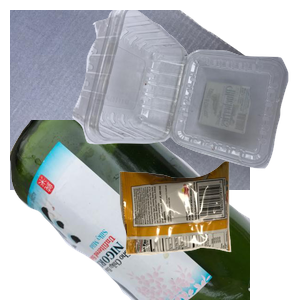cardboard: (10, 10, 250, 190)
glass: (10, 120, 250, 300)
plastic: (70, 10, 300, 171)
trash: (117, 159, 300, 300)
